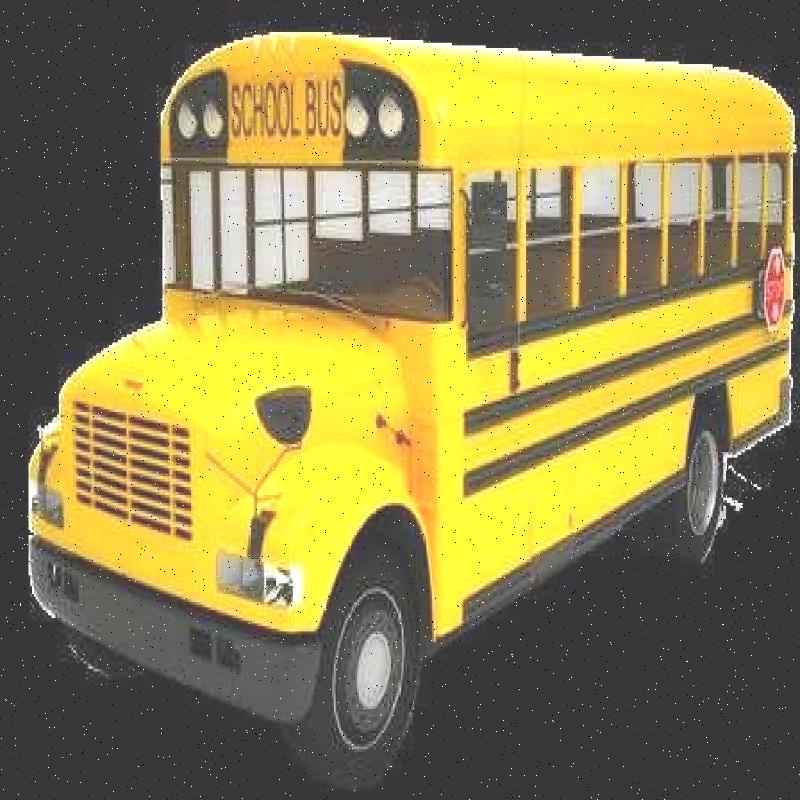bus: (21, 15, 798, 728)
